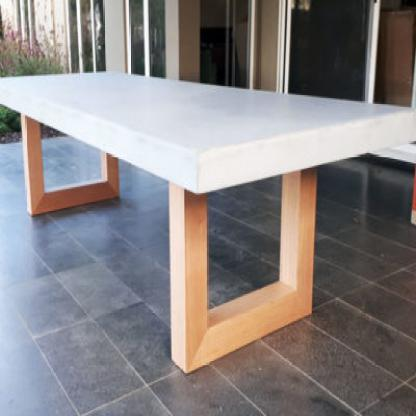table: (0, 56, 415, 380)
